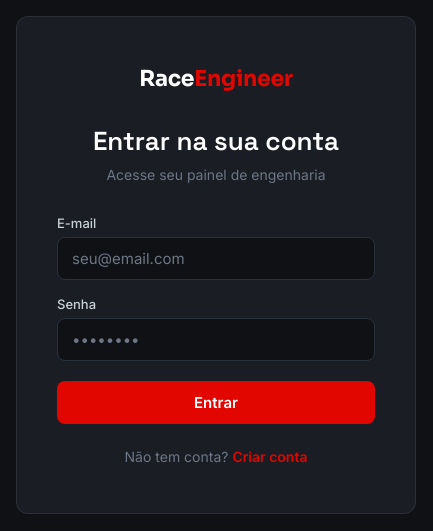
Test case: LoginPage › mode toggle › switches to register mode when toggle link is clicked
This screenshot has width=433, height=531.
Click the button "Criar conta": (270, 456) [232, 448, 307, 465]
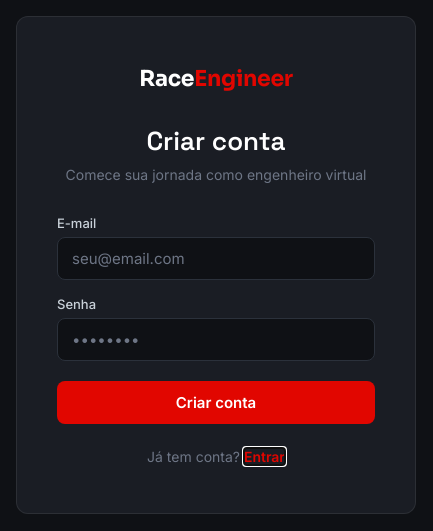
Check: the button "Criar conta" is shown, box [57, 381, 375, 424]
Check: the button "Entrar" is shown, box [244, 448, 285, 465]
